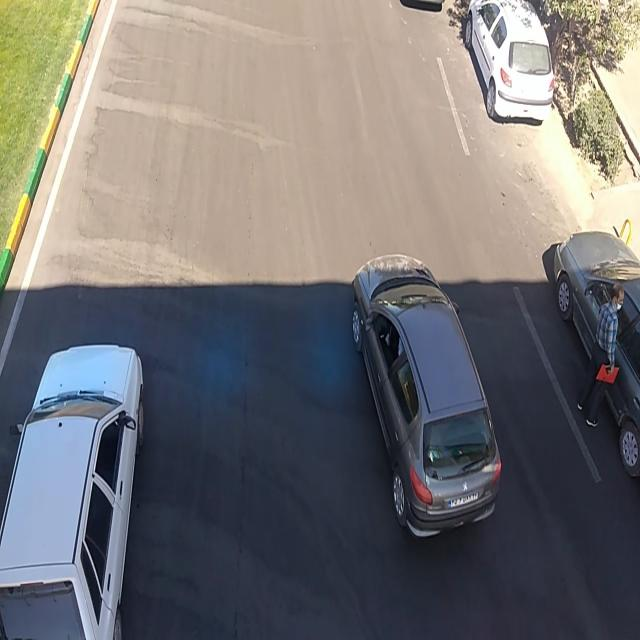car: (347, 256, 502, 537), (3, 340, 144, 634), (553, 232, 639, 475), (462, 0, 554, 121)
